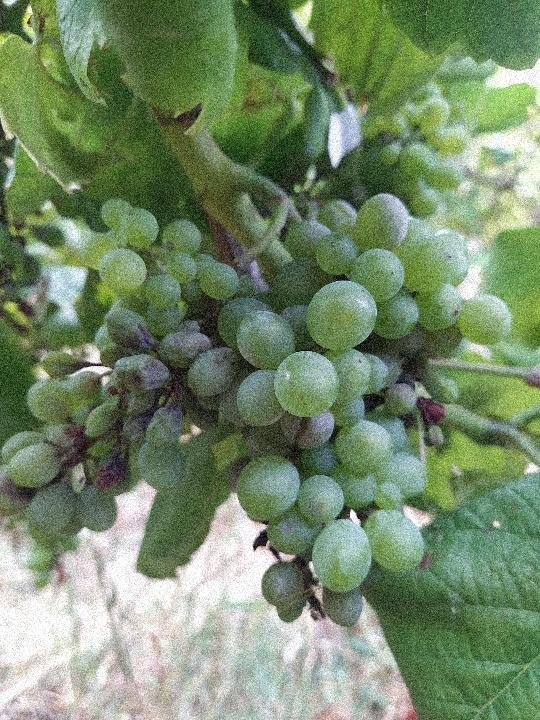grape: (17, 189, 514, 632)
